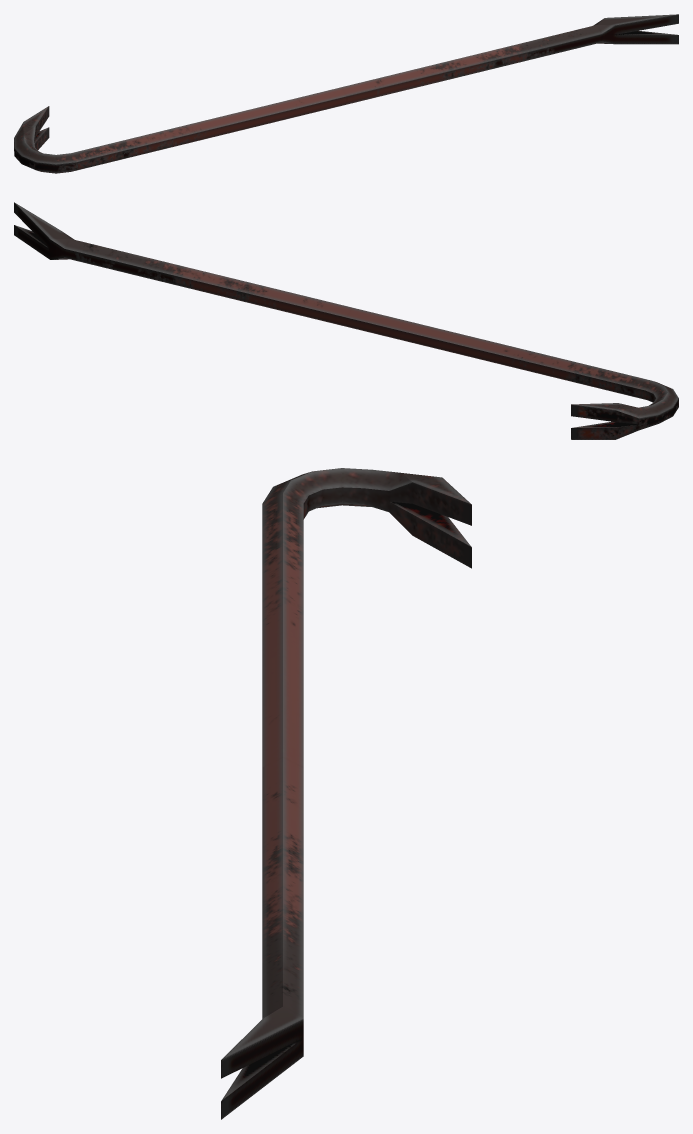
The model's file is Crowbar.glb.
3 views of the same model, one above another, from view 1: azimuth 30°, elevation 25°; view 2: azimuth 150°, elevation 25°; view 3: azimuth 270°, elevation 25° (orthographic). The views are drawn at different scales.
Visible parts, largest first — view 1: Crowbar; view 2: Crowbar; view 3: Crowbar.
Part boxes in pixels (x1,y1,x2,y2): Crowbar: [14, 14, 678, 173]; Crowbar: [14, 202, 678, 439]; Crowbar: [221, 468, 471, 1119].
Size of the model in its own units: 1.72 by 0.084 by 0.2975.
Materials: 1 (1 with a texture image).
